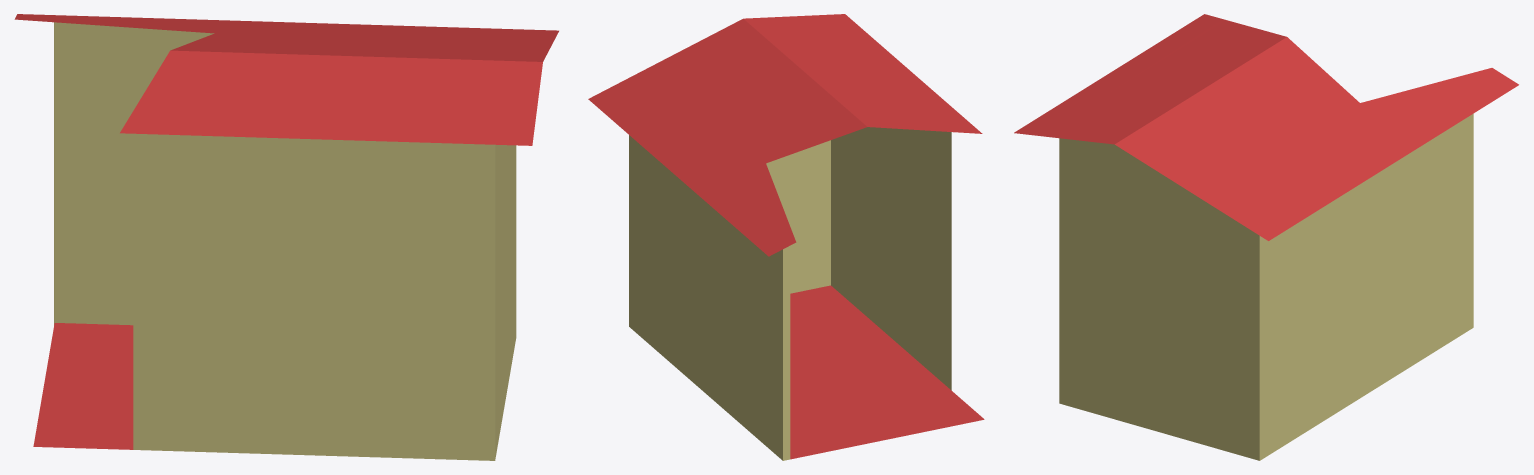
The picture shows the model from 3 angles, left to right: view 1: azimuth 30°, elevation 25°; view 2: azimuth 150°, elevation 25°; view 3: azimuth 270°, elevation 25°; orthographic projection. The views are drawn at different scales.
Visible parts, largest first — view 1: group_5, group_3, group_6, group_4; view 2: group_5, group_3, group_6, group_4; view 3: group_5, group_3, group_4.
Part boxes in pixels (x1,y1,x2,y2): group_5: (54,22,516,460); group_3: (14,14,558,145); group_6: (33,323,133,449); group_4: (18,16,558,145); group_5: (629,127,951,460); group_3: (588,14,982,256); group_6: (790,285,984,459); group_4: (591,15,979,247); group_5: (1059,113,1473,460); group_3: (1014,14,1518,240); group_4: (1015,17,1515,240).
Bounding box in the file's own units: 11.26 × 11.46 × 7.29.
